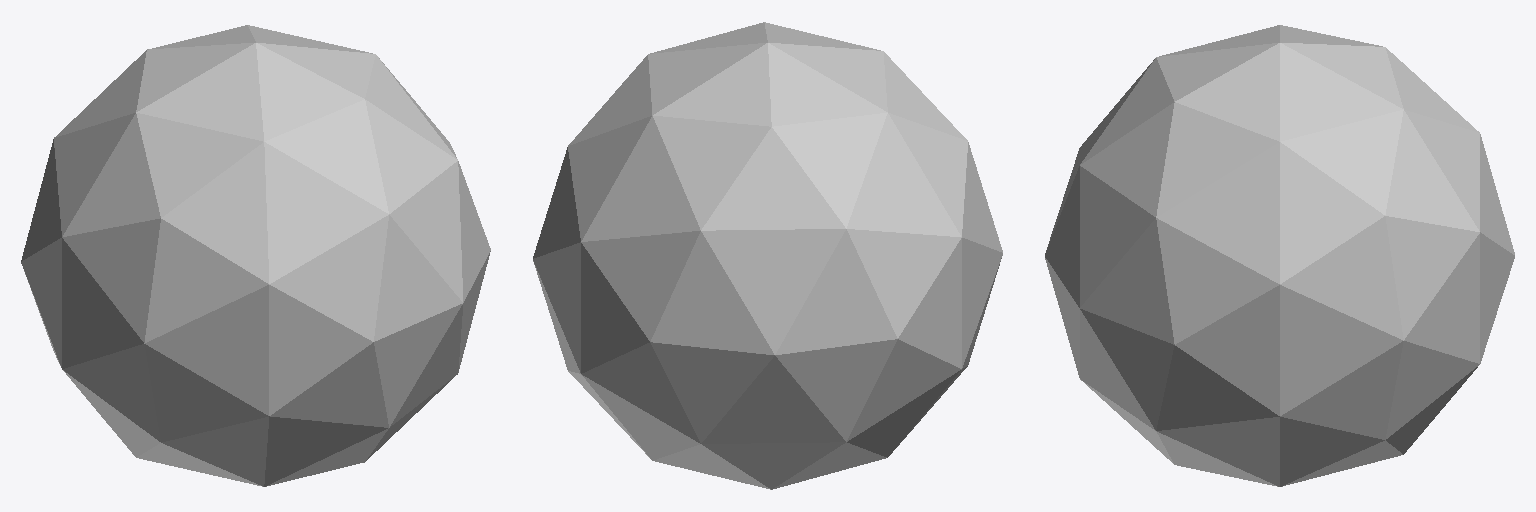
Rendered from smallball.obj.
The picture shows the model from 3 angles: view 1: azimuth 30°, elevation 25°; view 2: azimuth 150°, elevation 25°; view 3: azimuth 270°, elevation 25°; orthographic projection.
Parts seen in each view (by area): view 1: Icosphere; view 2: Icosphere; view 3: Icosphere.
Part boxes in pixels (bbox=[...]): Icosphere: bbox=[21, 25, 490, 486]; Icosphere: bbox=[533, 22, 1002, 489]; Icosphere: bbox=[1045, 25, 1514, 486].
Bounding box in the file's own units: 0.5073 × 0.5334 × 0.5334.